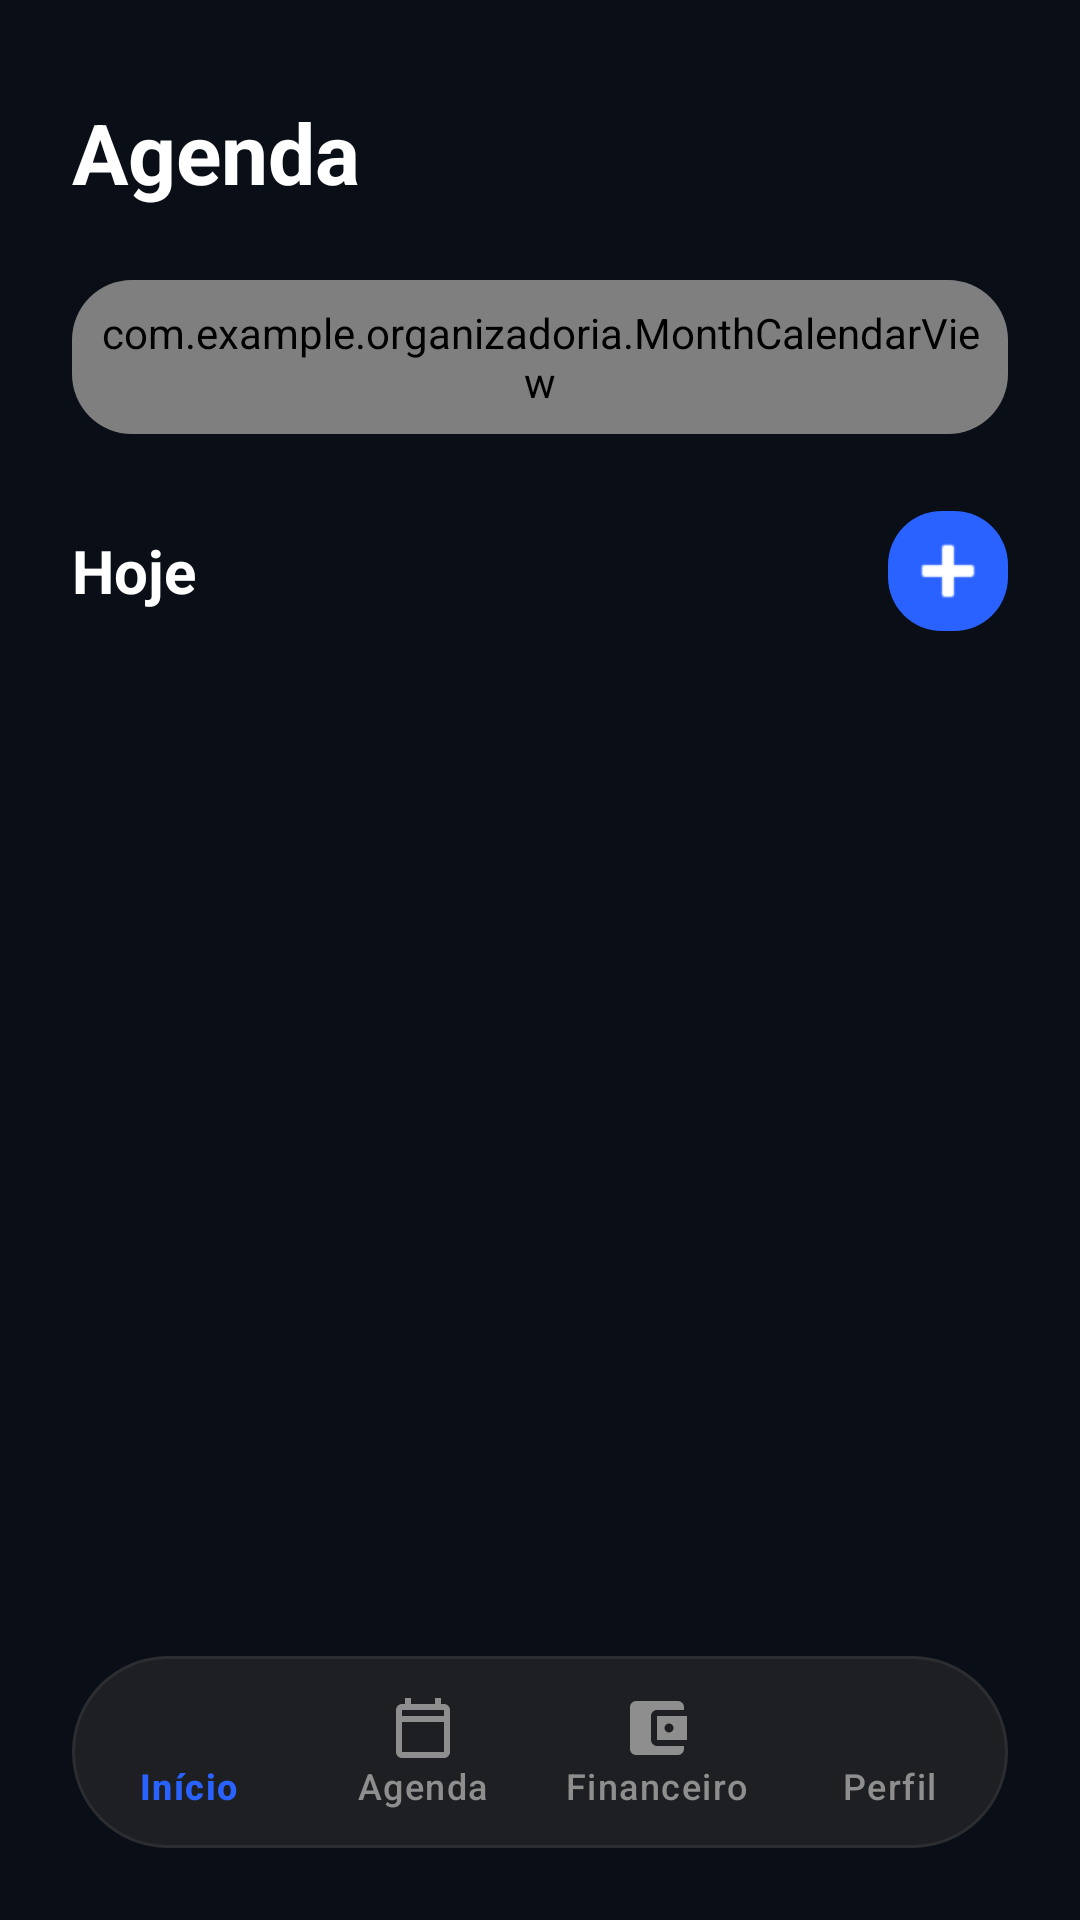

Icon bounding boxes for this 1080px×1920px phone screenshot, format bbox=(x1, y1, x2, y2):
add: bbox=(888, 511, 1008, 631)
